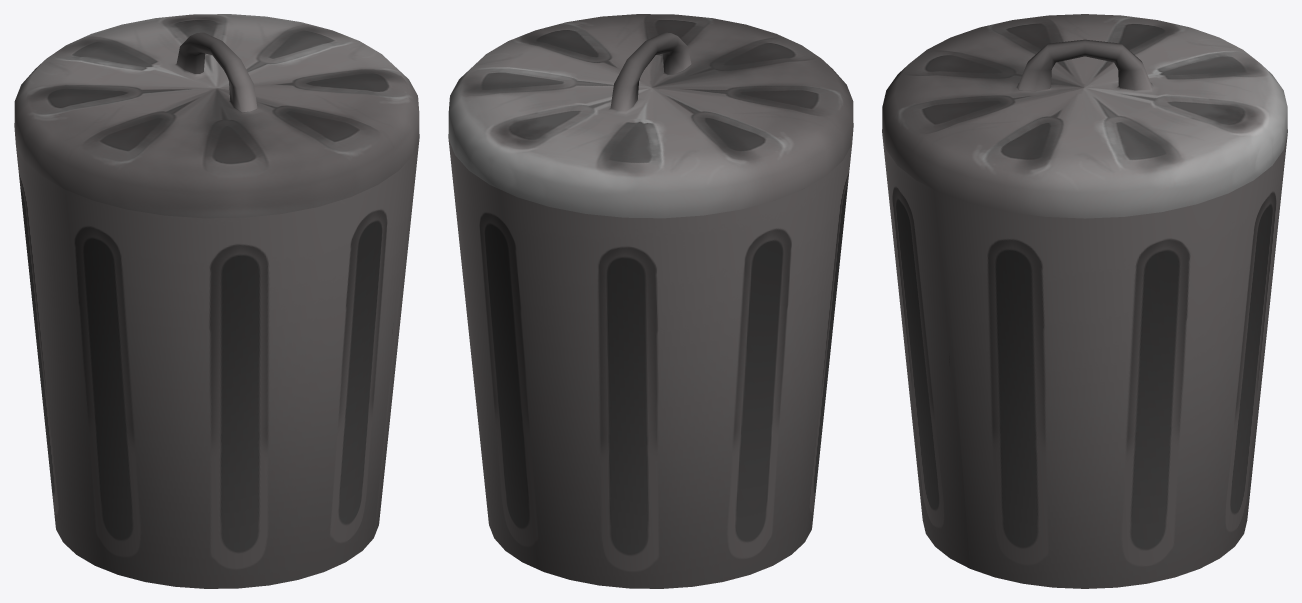
File: trash_can.fbx
3 renders of one model, left to right at view 1: azimuth 30°, elevation 25°; view 2: azimuth 150°, elevation 25°; view 3: azimuth 270°, elevation 25°, orthographic.
Parts seen in each view (by area): view 1: Trash Can; view 2: Trash Can; view 3: Trash Can.
Boxes of the visible parts, x1,y1,x2,y2 form: Trash Can: [14, 14, 419, 588]; Trash Can: [448, 14, 853, 588]; Trash Can: [882, 14, 1287, 588].
Size of the model in its own units: 85.38 by 111 by 85.38.
